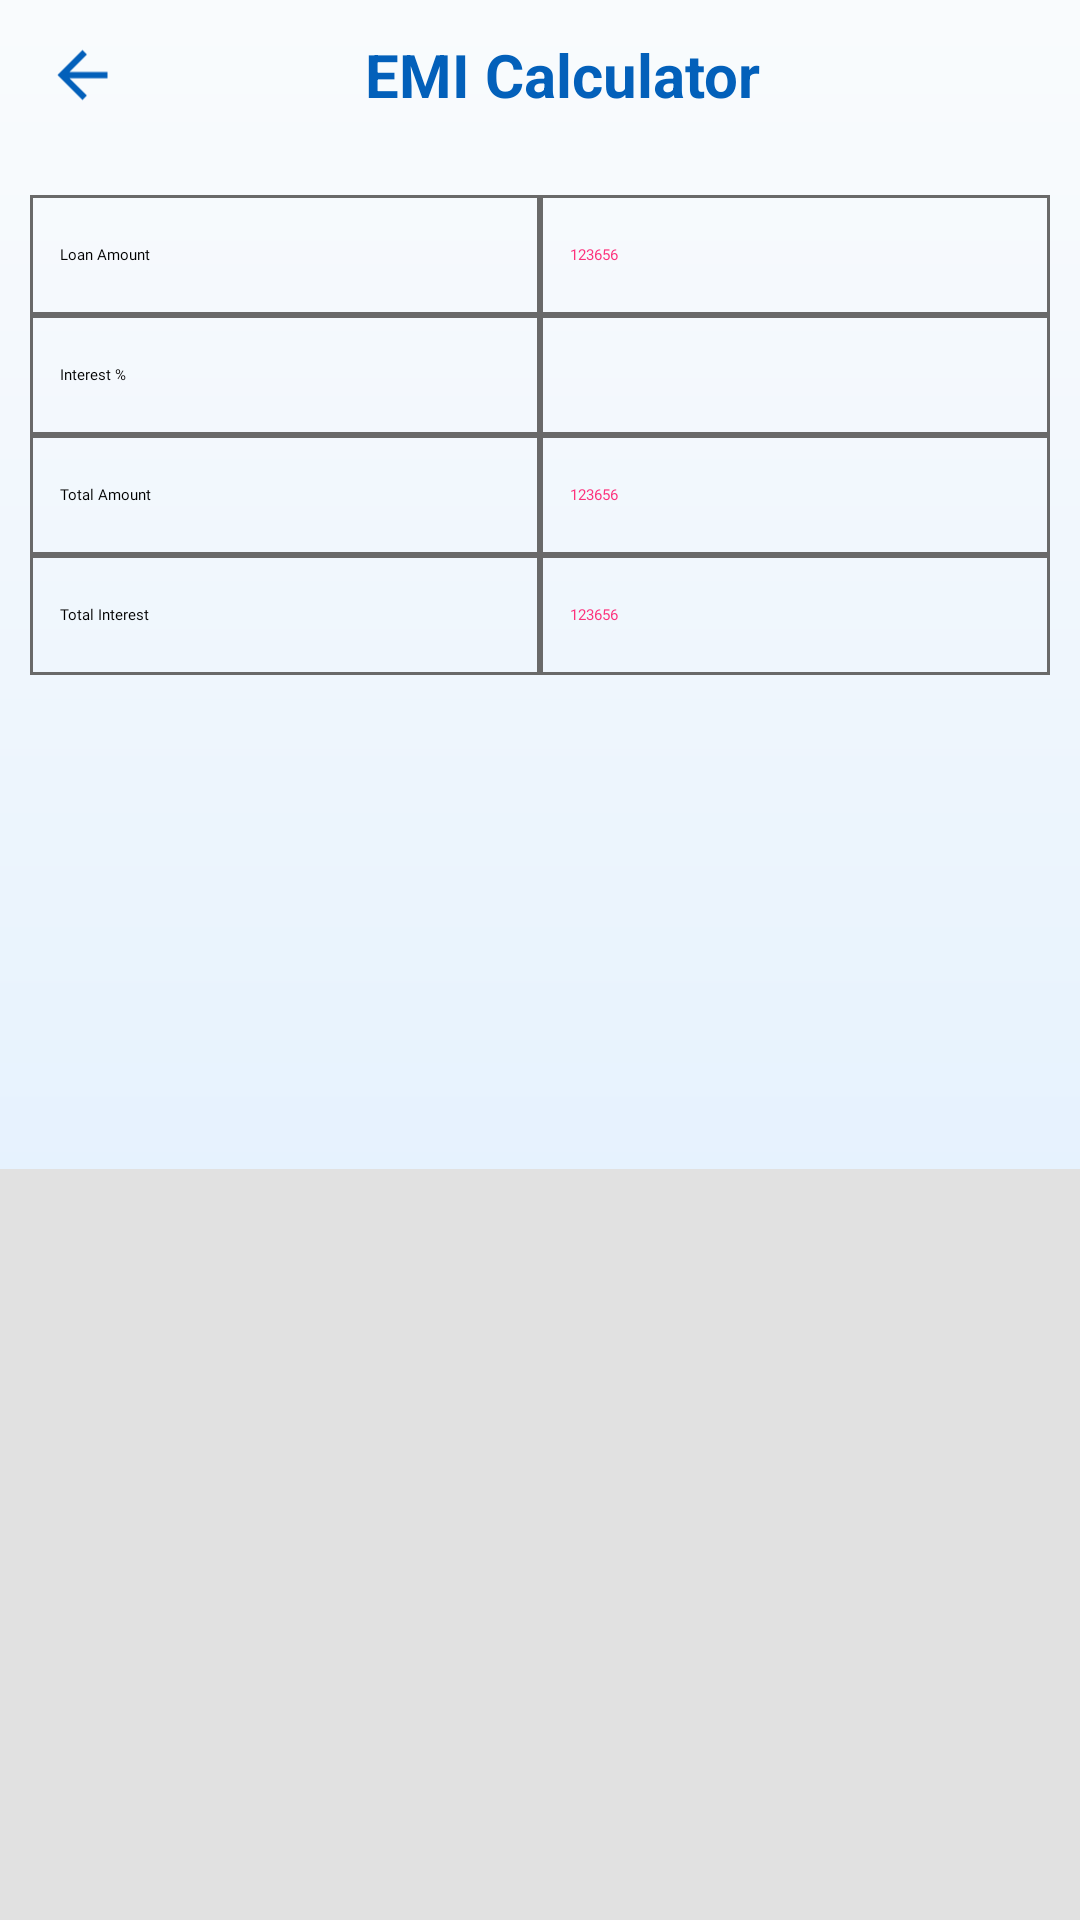

Where to tap for icons on this 1080w x 1920h app screen, as (x,y):
arrow back: (82,75)
